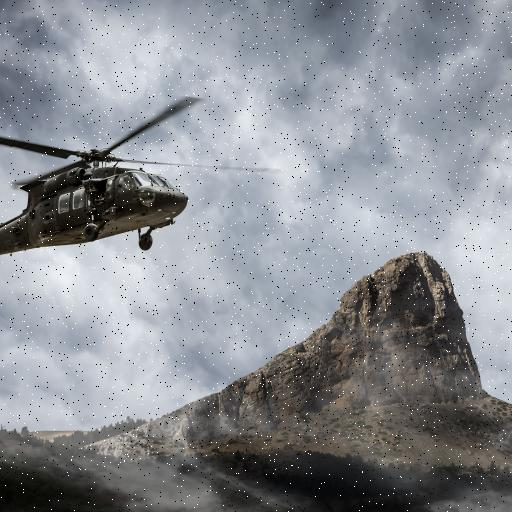helicopter: (1, 102, 183, 284)
